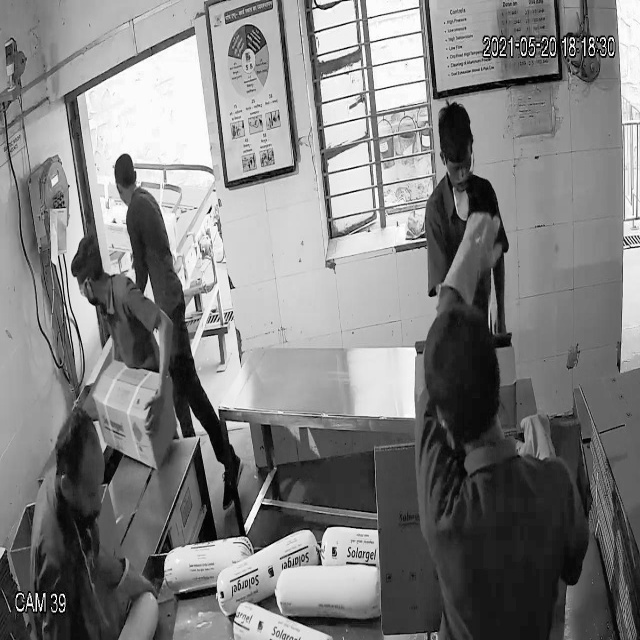Gafas: (438, 148, 476, 182)
